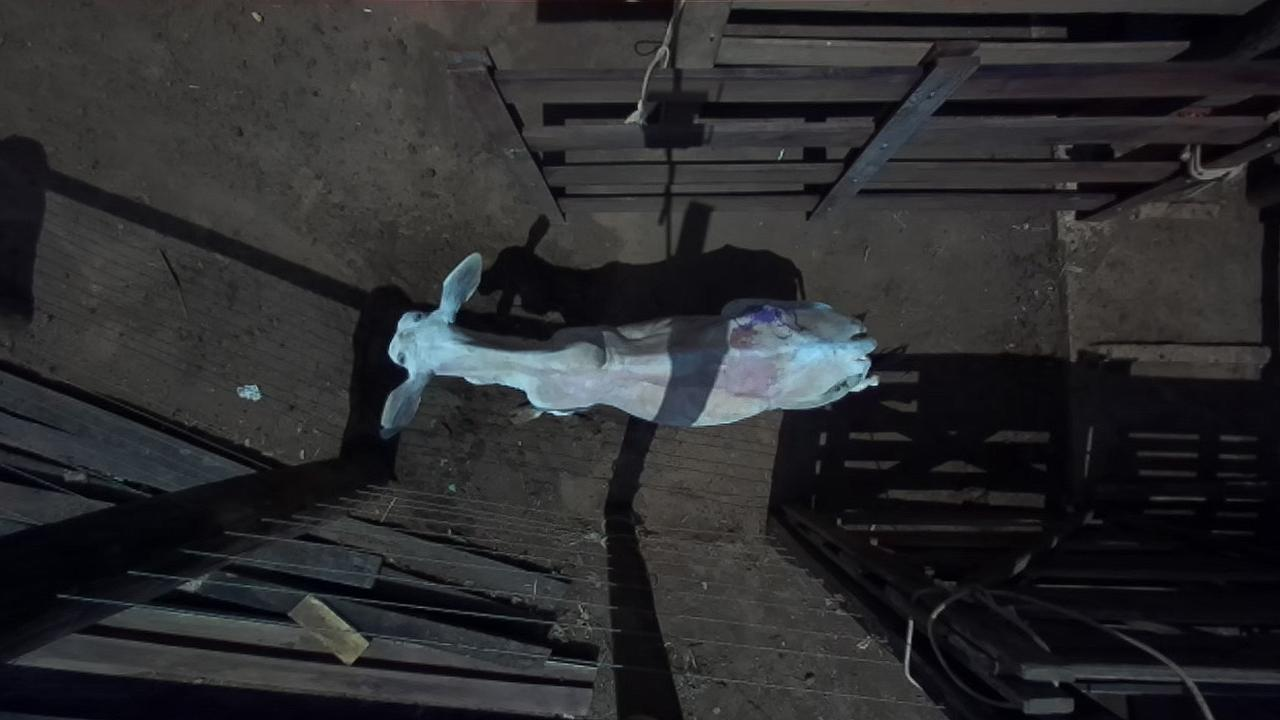cattle: (377, 245, 889, 442)
